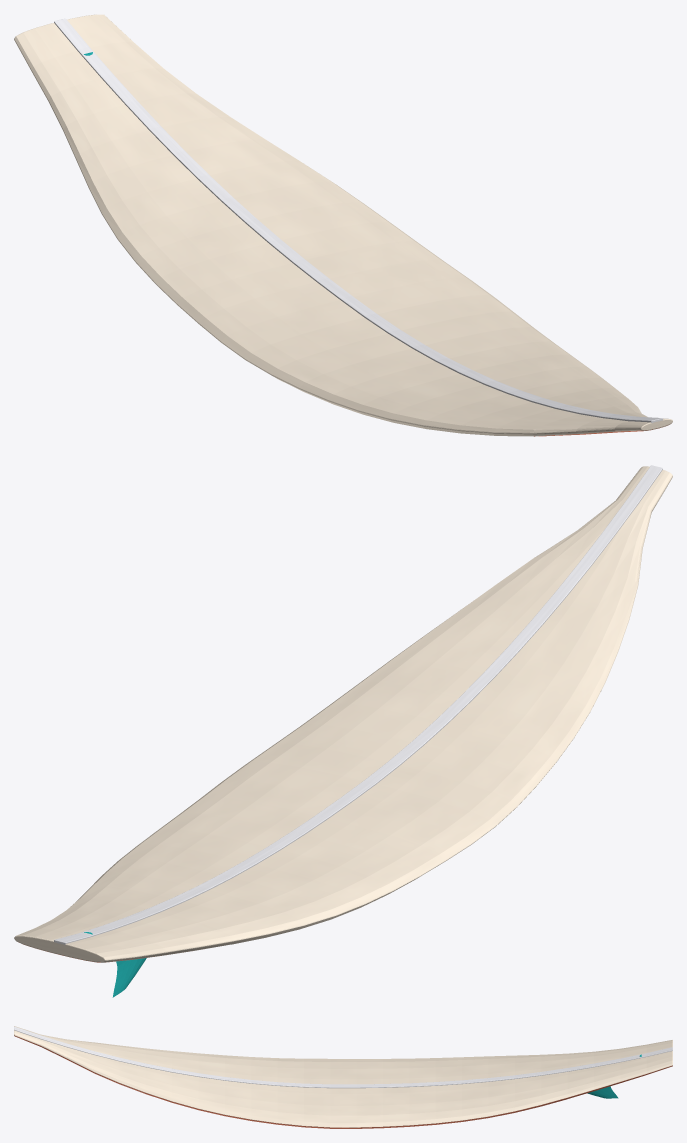
File: beach_surfboard.glb
3 views of the same model, one above another, from view 1: azimuth 30°, elevation 25°; view 2: azimuth 150°, elevation 25°; view 3: azimuth 270°, elevation 25° (orthographic). The views are drawn at different scales.
Visible parts, largest first — view 1: beach_surfboard_board, beach_surfboard_stringer; view 2: beach_surfboard_board, beach_surfboard_stringer; view 3: beach_surfboard_board, beach_surfboard_stringer, beach_surfboard_fin.
Part boxes in pixels (x1,y1,x2,y2): beach_surfboard_board: (14,14,672,436); beach_surfboard_stringer: (54,18,662,423); beach_surfboard_board: (14,466,672,962); beach_surfboard_stringer: (54,465,662,945); beach_surfboard_board: (14,1026,672,1128); beach_surfboard_stringer: (14,1026,672,1088); beach_surfboard_fin: (587,1086,618,1098).
Size of the model in its own units: 0.461 by 0.2292 by 1.9.
4 materials, 4 textured.
